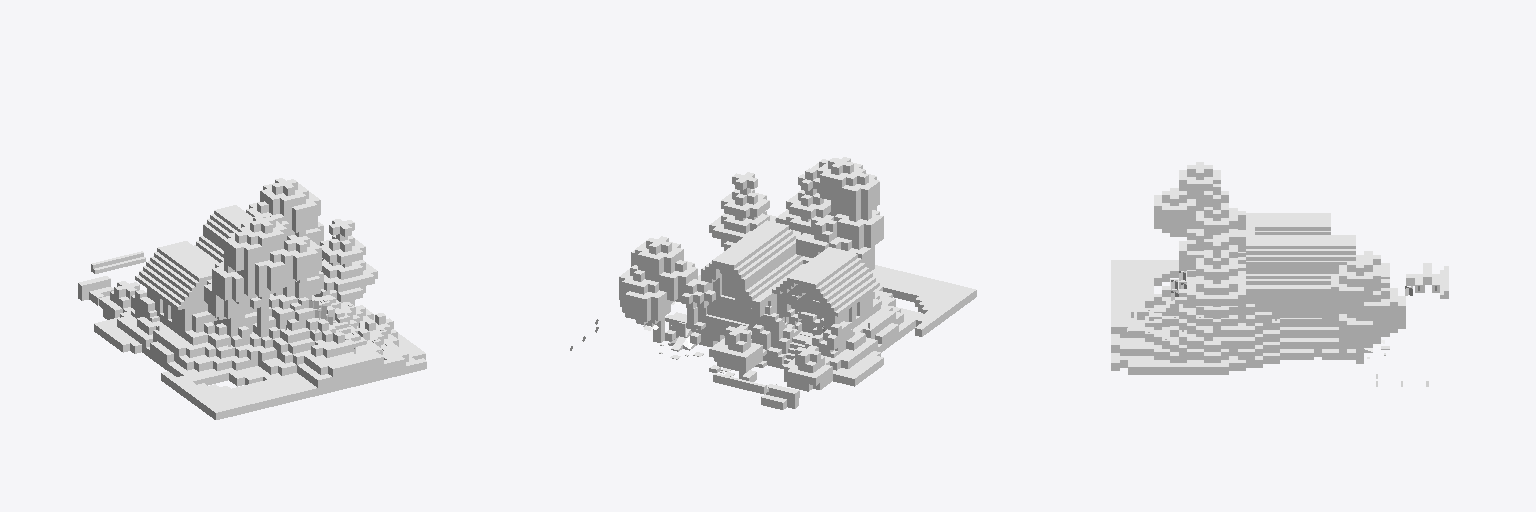
The model's file is endymining_cafe.obj.
3 renders of one model, left to right at view 1: azimuth 30°, elevation 25°; view 2: azimuth 150°, elevation 25°; view 3: azimuth 270°, elevation 25°, orthographic.
Parts seen in each view (by area): view 1: EndyMining__-161_64_333_to_-128_84_372; view 2: EndyMining__-161_64_333_to_-128_84_372; view 3: EndyMining__-161_64_333_to_-128_84_372.
Part boxes in pixels (x1,y1,x2,y2): EndyMining__-161_64_333_to_-128_84_372: (78,178,426,419); EndyMining__-161_64_333_to_-128_84_372: (570,157,976,409); EndyMining__-161_64_333_to_-128_84_372: (1111,162,1448,386).
Bounding box in the file's own units: 34.12 × 19 × 40.